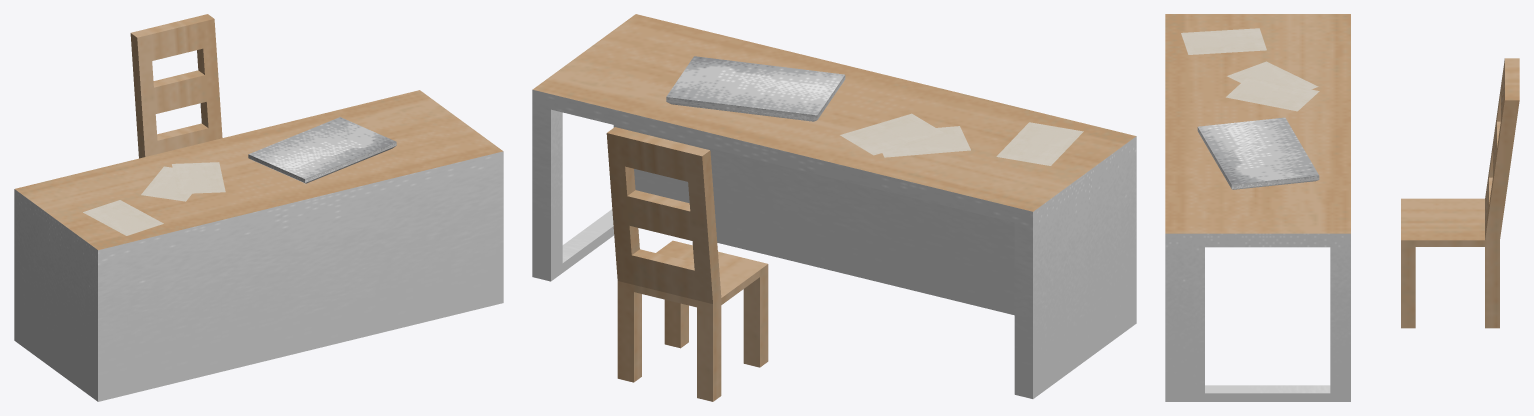
Rendered from Bedroom_Desk.fbx.
3 views of the same model, side by side, from view 1: azimuth 30°, elevation 25°; view 2: azimuth 150°, elevation 25°; view 3: azimuth 270°, elevation 25° (orthographic). The views are drawn at different scales.
Visible parts, largest first — view 1: Cube.007; view 2: Cube.007; view 3: Cube.007.
Boxes of the visible parts, x1,y1,x2,y2 form: Cube.007: (14,14,503,401); Cube.007: (532,14,1136,401); Cube.007: (1165,14,1519,401).
Size of the model in its own units: 224 by 109 by 153.
